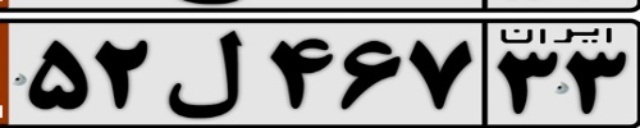2: (93, 39, 151, 109)
3: (496, 48, 560, 114), (565, 49, 628, 114)
4: (267, 36, 332, 109)
5: (21, 39, 91, 109)
6: (340, 40, 402, 111)
7: (409, 40, 472, 111)
lam: (168, 30, 242, 119)
